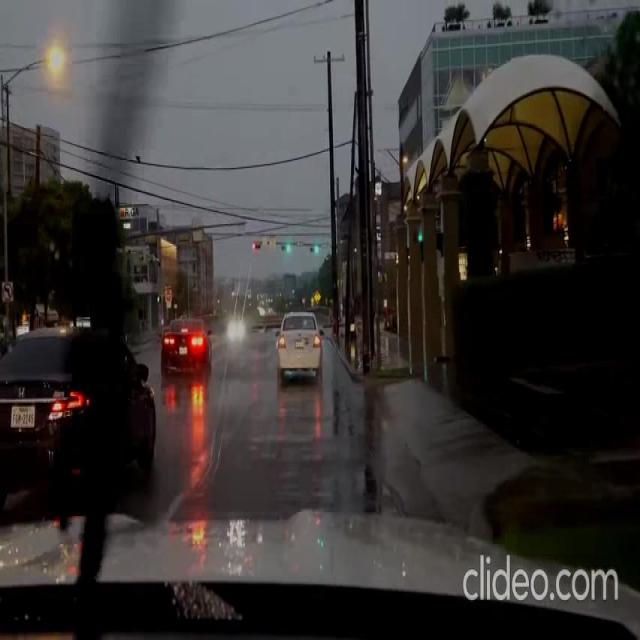Car: (0, 322, 154, 494), (274, 310, 322, 380), (159, 314, 211, 376)
